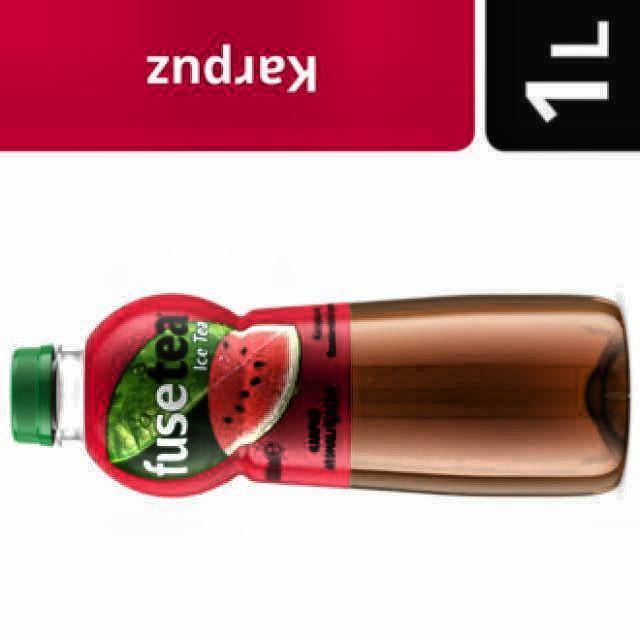plastic: (11, 294, 629, 496)
